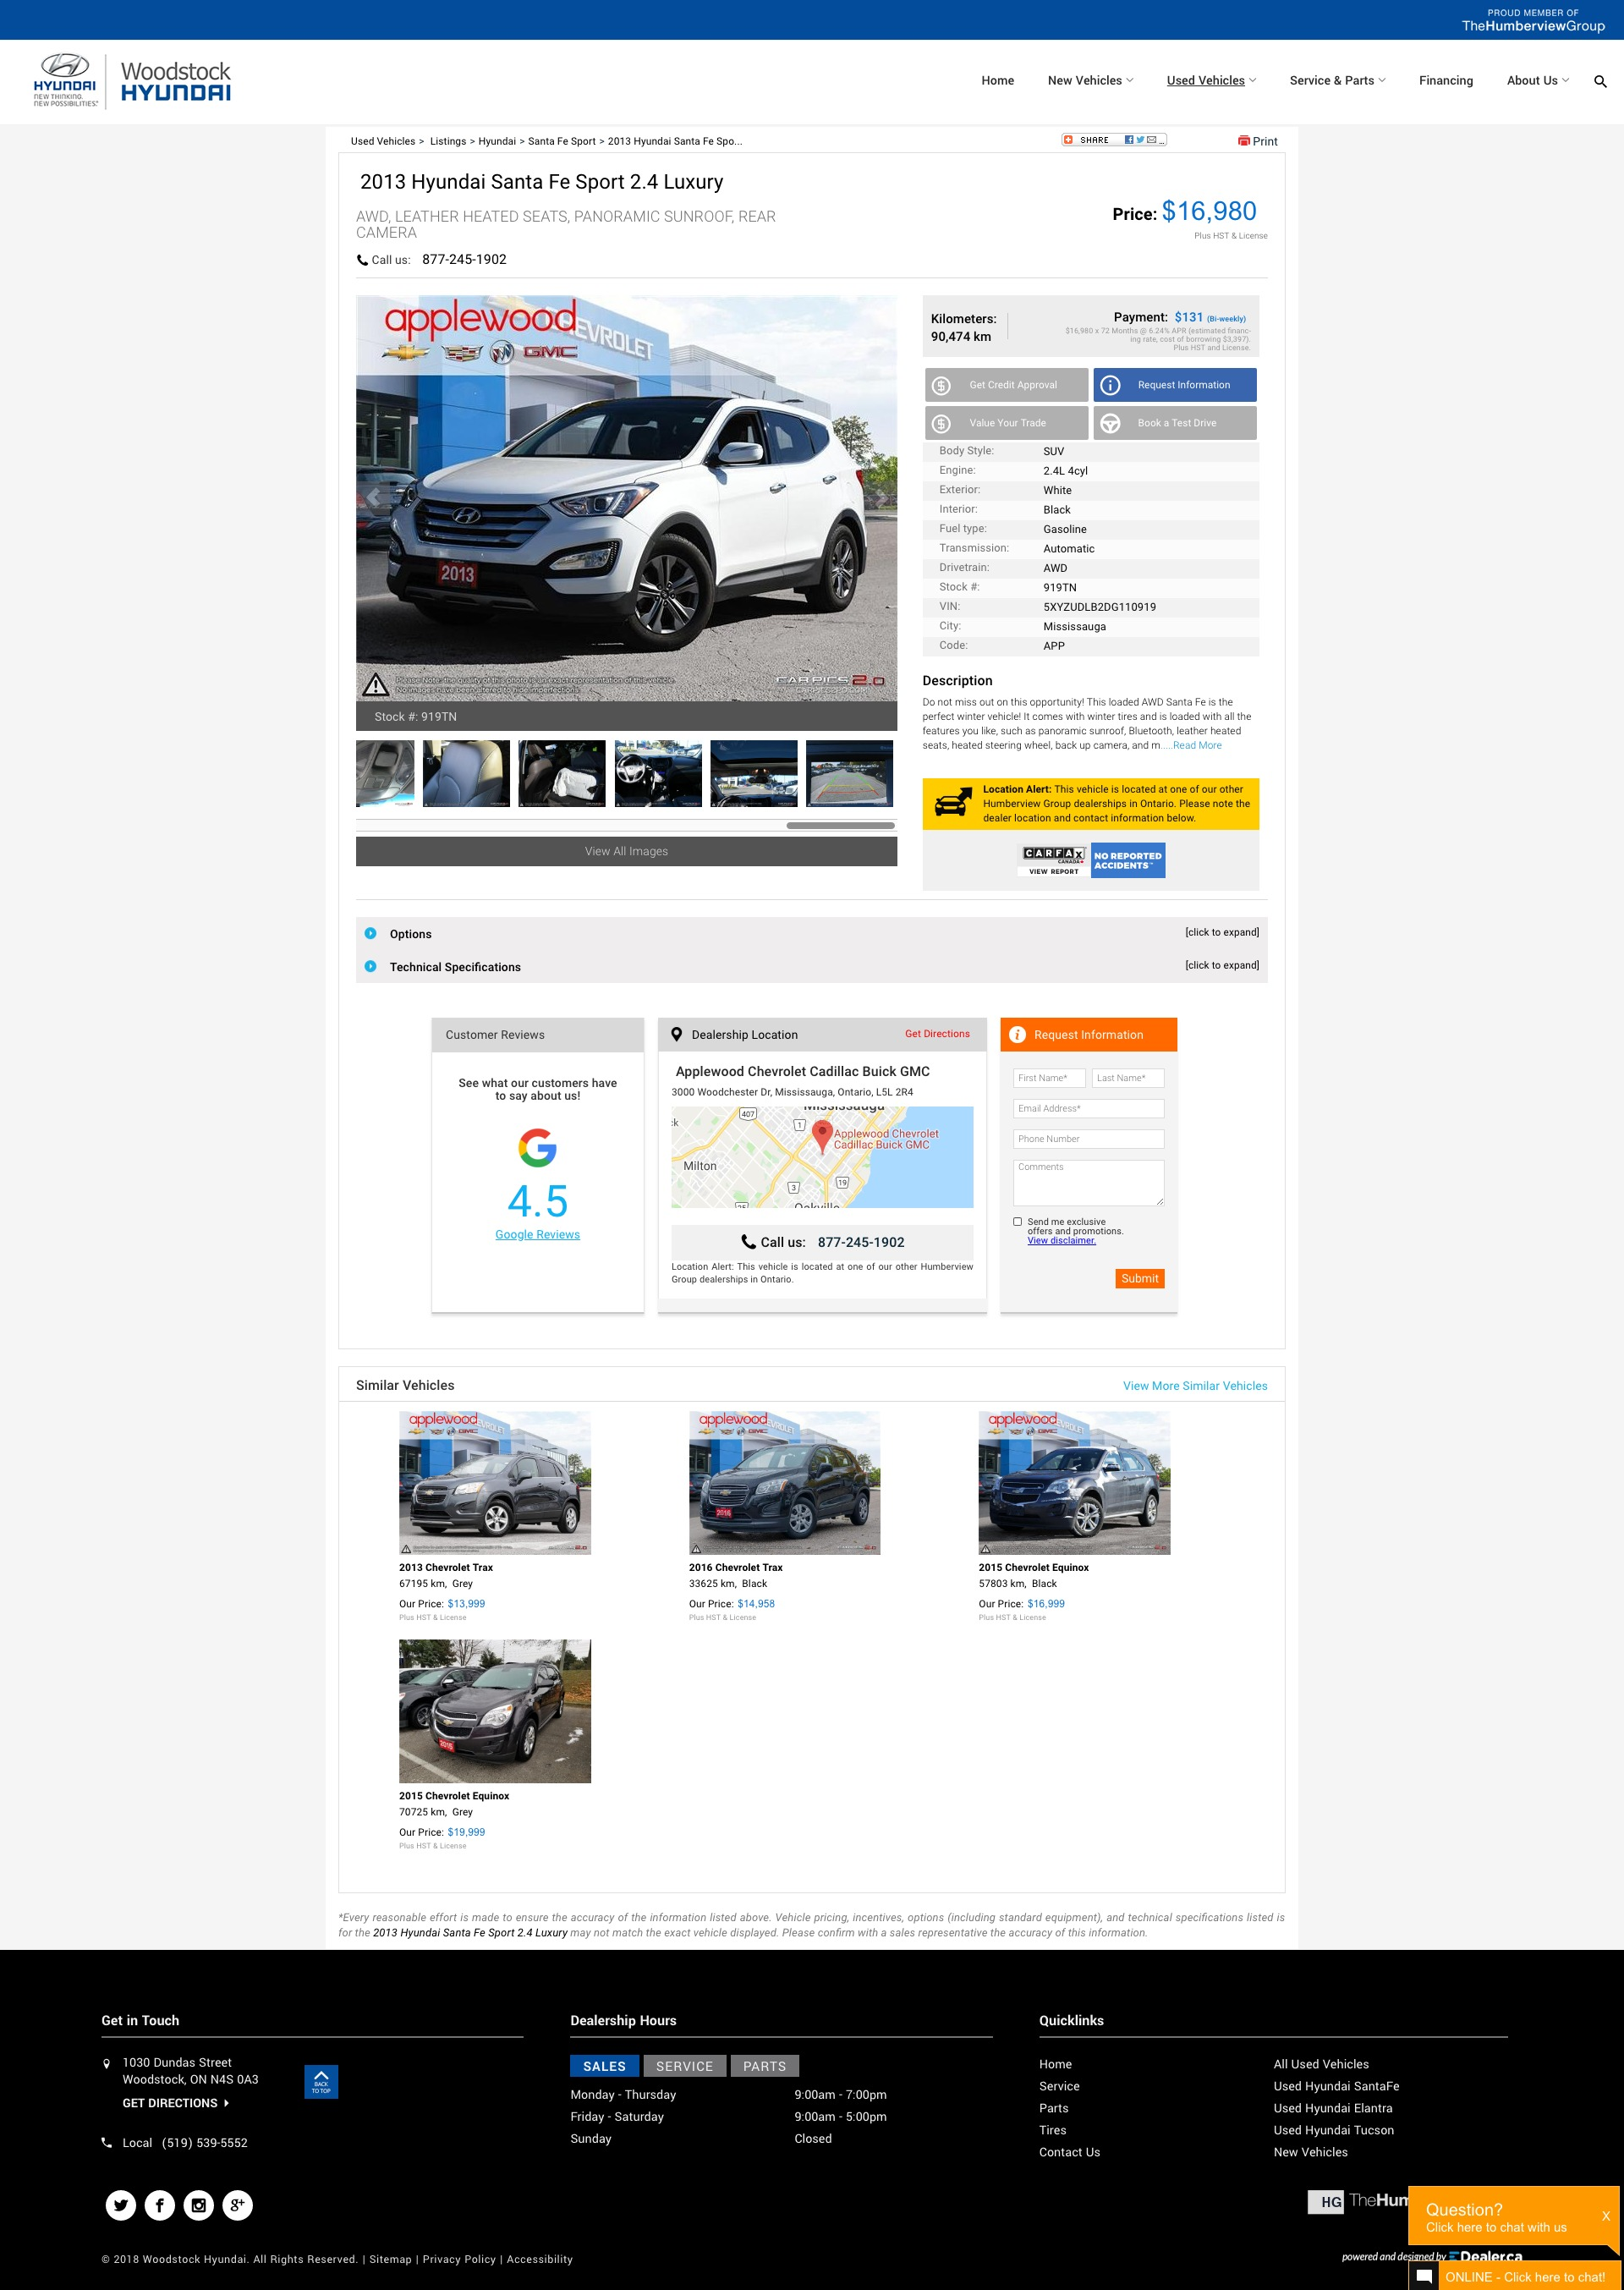car: (875, 489, 889, 510)
